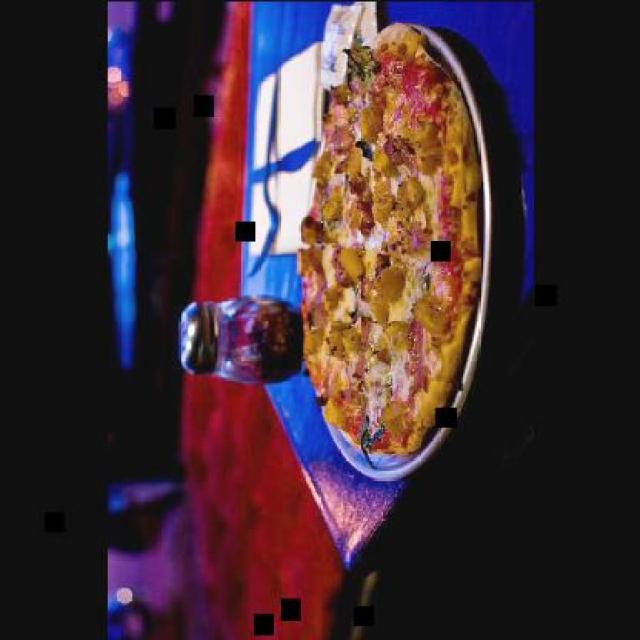unauthorized: (295, 20, 483, 462)
